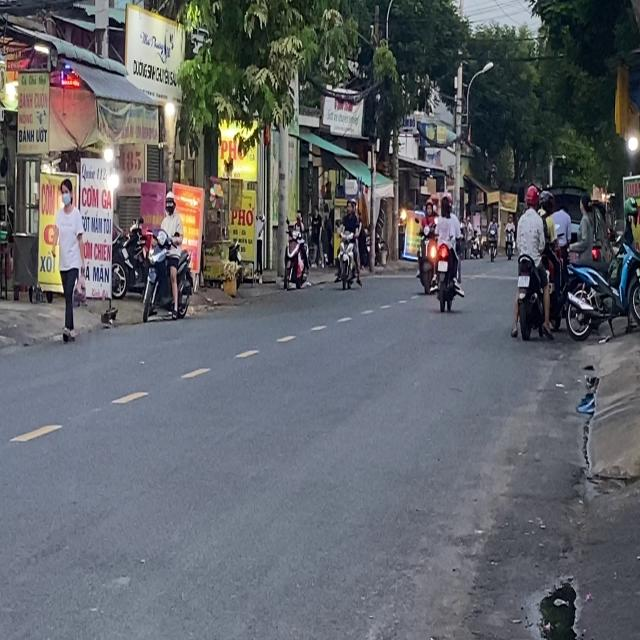helmet: (524, 184, 538, 209), (163, 191, 176, 216)
licenseplate: (140, 190, 193, 323), (511, 183, 551, 341)
nohelmet: (518, 275, 529, 287)
